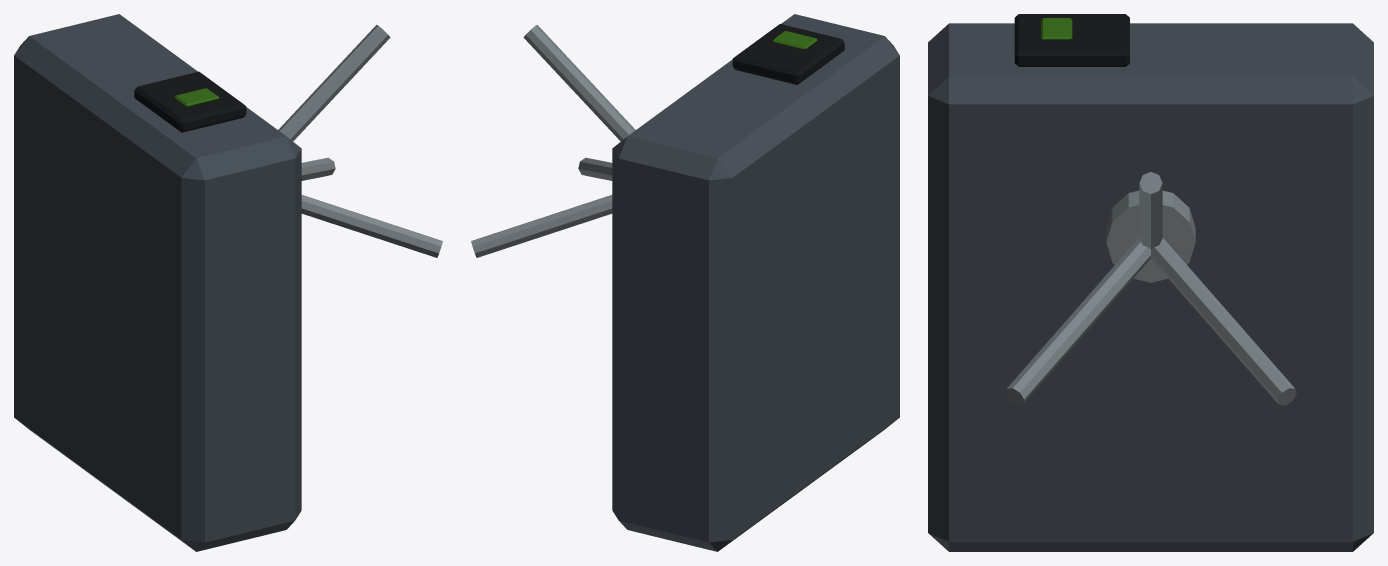
File: TripodTurnstile.fbx
3 views of the same model, side by side, from view 1: azimuth 30°, elevation 25°; view 2: azimuth 150°, elevation 25°; view 3: azimuth 270°, elevation 25° (orthographic). The views are drawn at different scales.
Parts seen in each view (by area): view 1: TripodTurnstile; view 2: TripodTurnstile; view 3: TripodTurnstile.
Part boxes in pixels (x1,y1,x2,y2): TripodTurnstile: (14, 14, 442, 551); TripodTurnstile: (471, 14, 899, 551); TripodTurnstile: (928, 14, 1373, 551).
Bounding box in the file's own units: 77.36 × 105 × 85.
1 material, 1 textured.
